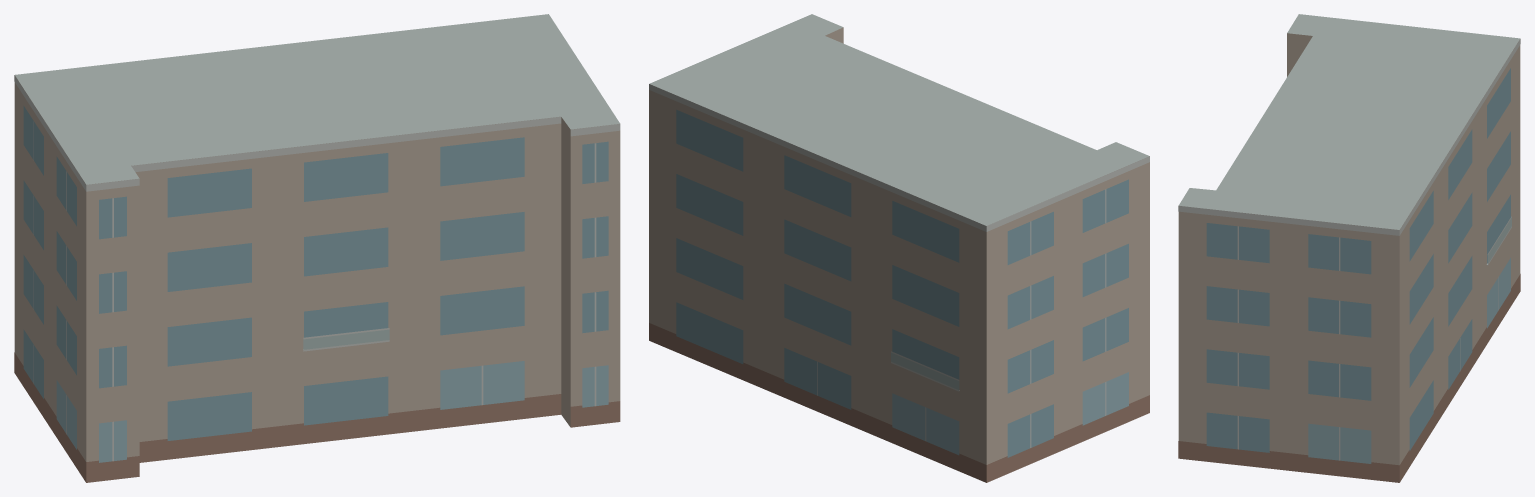
The model's file is survey-upis-33018774.glb.
3 views of the same model, side by side, from view 1: azimuth 30°, elevation 25°; view 2: azimuth 150°, elevation 25°; view 3: azimuth 270°, elevation 25° (orthographic). The views are drawn at different scales.
Parts seen in each view (by area): view 1: survey-upis-33018774.tmp; view 2: survey-upis-33018774.tmp; view 3: survey-upis-33018774.tmp.
Part boxes in pixels (box(x1,y1,x2,y2)): survey-upis-33018774.tmp: box(14, 14, 620, 482); survey-upis-33018774.tmp: box(649, 14, 1149, 482); survey-upis-33018774.tmp: box(1178, 14, 1520, 482).
Bounding box in the file's own units: 19.25 × 10.5 × 12.88.
